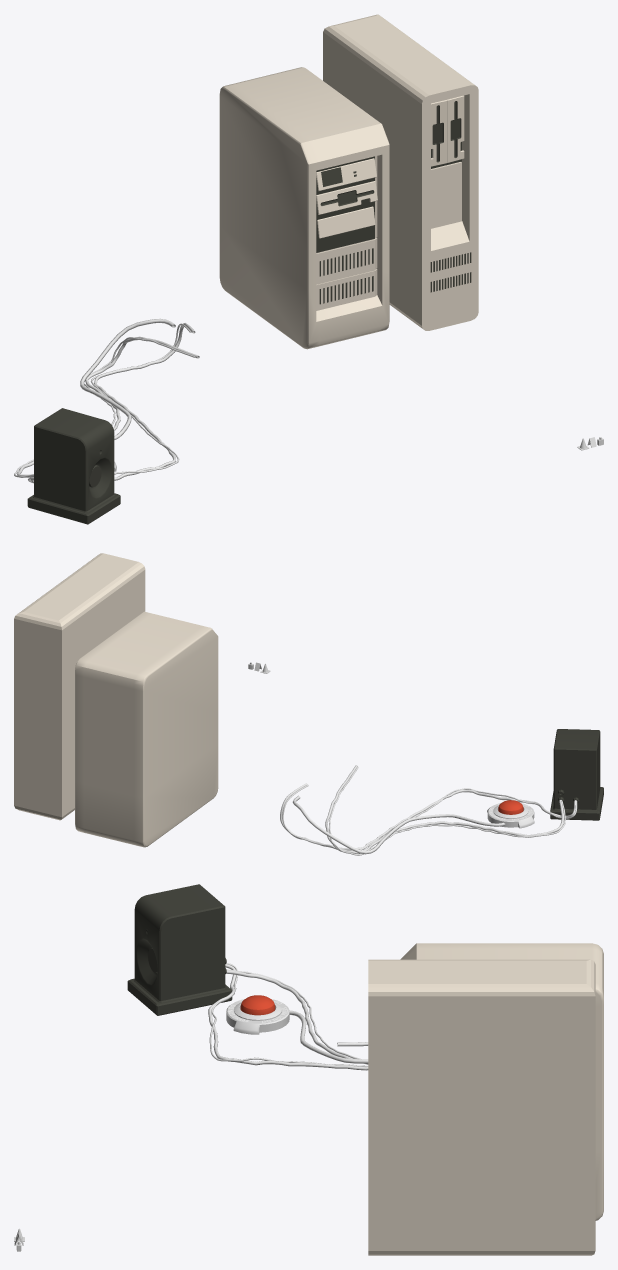
Rendered from Final Props.fbx.
The picture shows the model from 3 angles, top to bottom: view 1: azimuth 30°, elevation 25°; view 2: azimuth 150°, elevation 25°; view 3: azimuth 270°, elevation 25°; orthographic projection. The views are drawn at different scales.
Visible parts, largest first — view 1: Cube.132, Cube.218, Cube.219, Hanging Cables.007, BézierCurve.001, Hanging Cables.006; view 2: Cube.132, Cube.218, Cube.219, Hanging Cables.007, Hanging Cables.006, BézierCurve.001, Cylinder.023, Hanging Cables.008, Hanging Cables.009; view 3: Cube.218, Cube.219, Cube.132, Cylinder.023, Hanging Cables.007, Hanging Cables.006, Cylinder.022, BézierCurve.001, Hanging Cables.009.
Boxes of the visible parts, x1,y1,x2,y2 form: Cube.132: [219, 67, 389, 349]; Cube.218: [323, 14, 478, 330]; Cube.219: [27, 408, 120, 524]; Hanging Cables.007: [30, 323, 195, 483]; BézierCurve.001: [80, 318, 175, 439]; Hanging Cables.006: [17, 336, 199, 477]; Cube.132: [75, 611, 218, 847]; Cube.218: [14, 553, 145, 820]; Cube.219: [550, 729, 603, 820]; Hanging Cables.007: [280, 783, 575, 850]; Hanging Cables.006: [325, 765, 564, 853]; BézierCurve.001: [292, 795, 505, 854]; Cylinder.023: [487, 803, 534, 828]; Hanging Cables.008: [329, 766, 565, 855]; Hanging Cables.009: [282, 785, 577, 850]; Cube.218: [368, 959, 595, 1255]; Cube.219: [127, 884, 232, 1015]; Cube.132: [400, 943, 603, 1220]; Cylinder.023: [226, 999, 289, 1034]; Hanging Cables.007: [208, 964, 368, 1070]; Hanging Cables.006: [226, 970, 368, 1064]; Cylinder.022: [240, 995, 275, 1015]; BézierCurve.001: [289, 1010, 368, 1063]; Hanging Cables.009: [209, 963, 368, 1066].
Bounding box in the file's own units: 4462 × 5250 × 2341.
